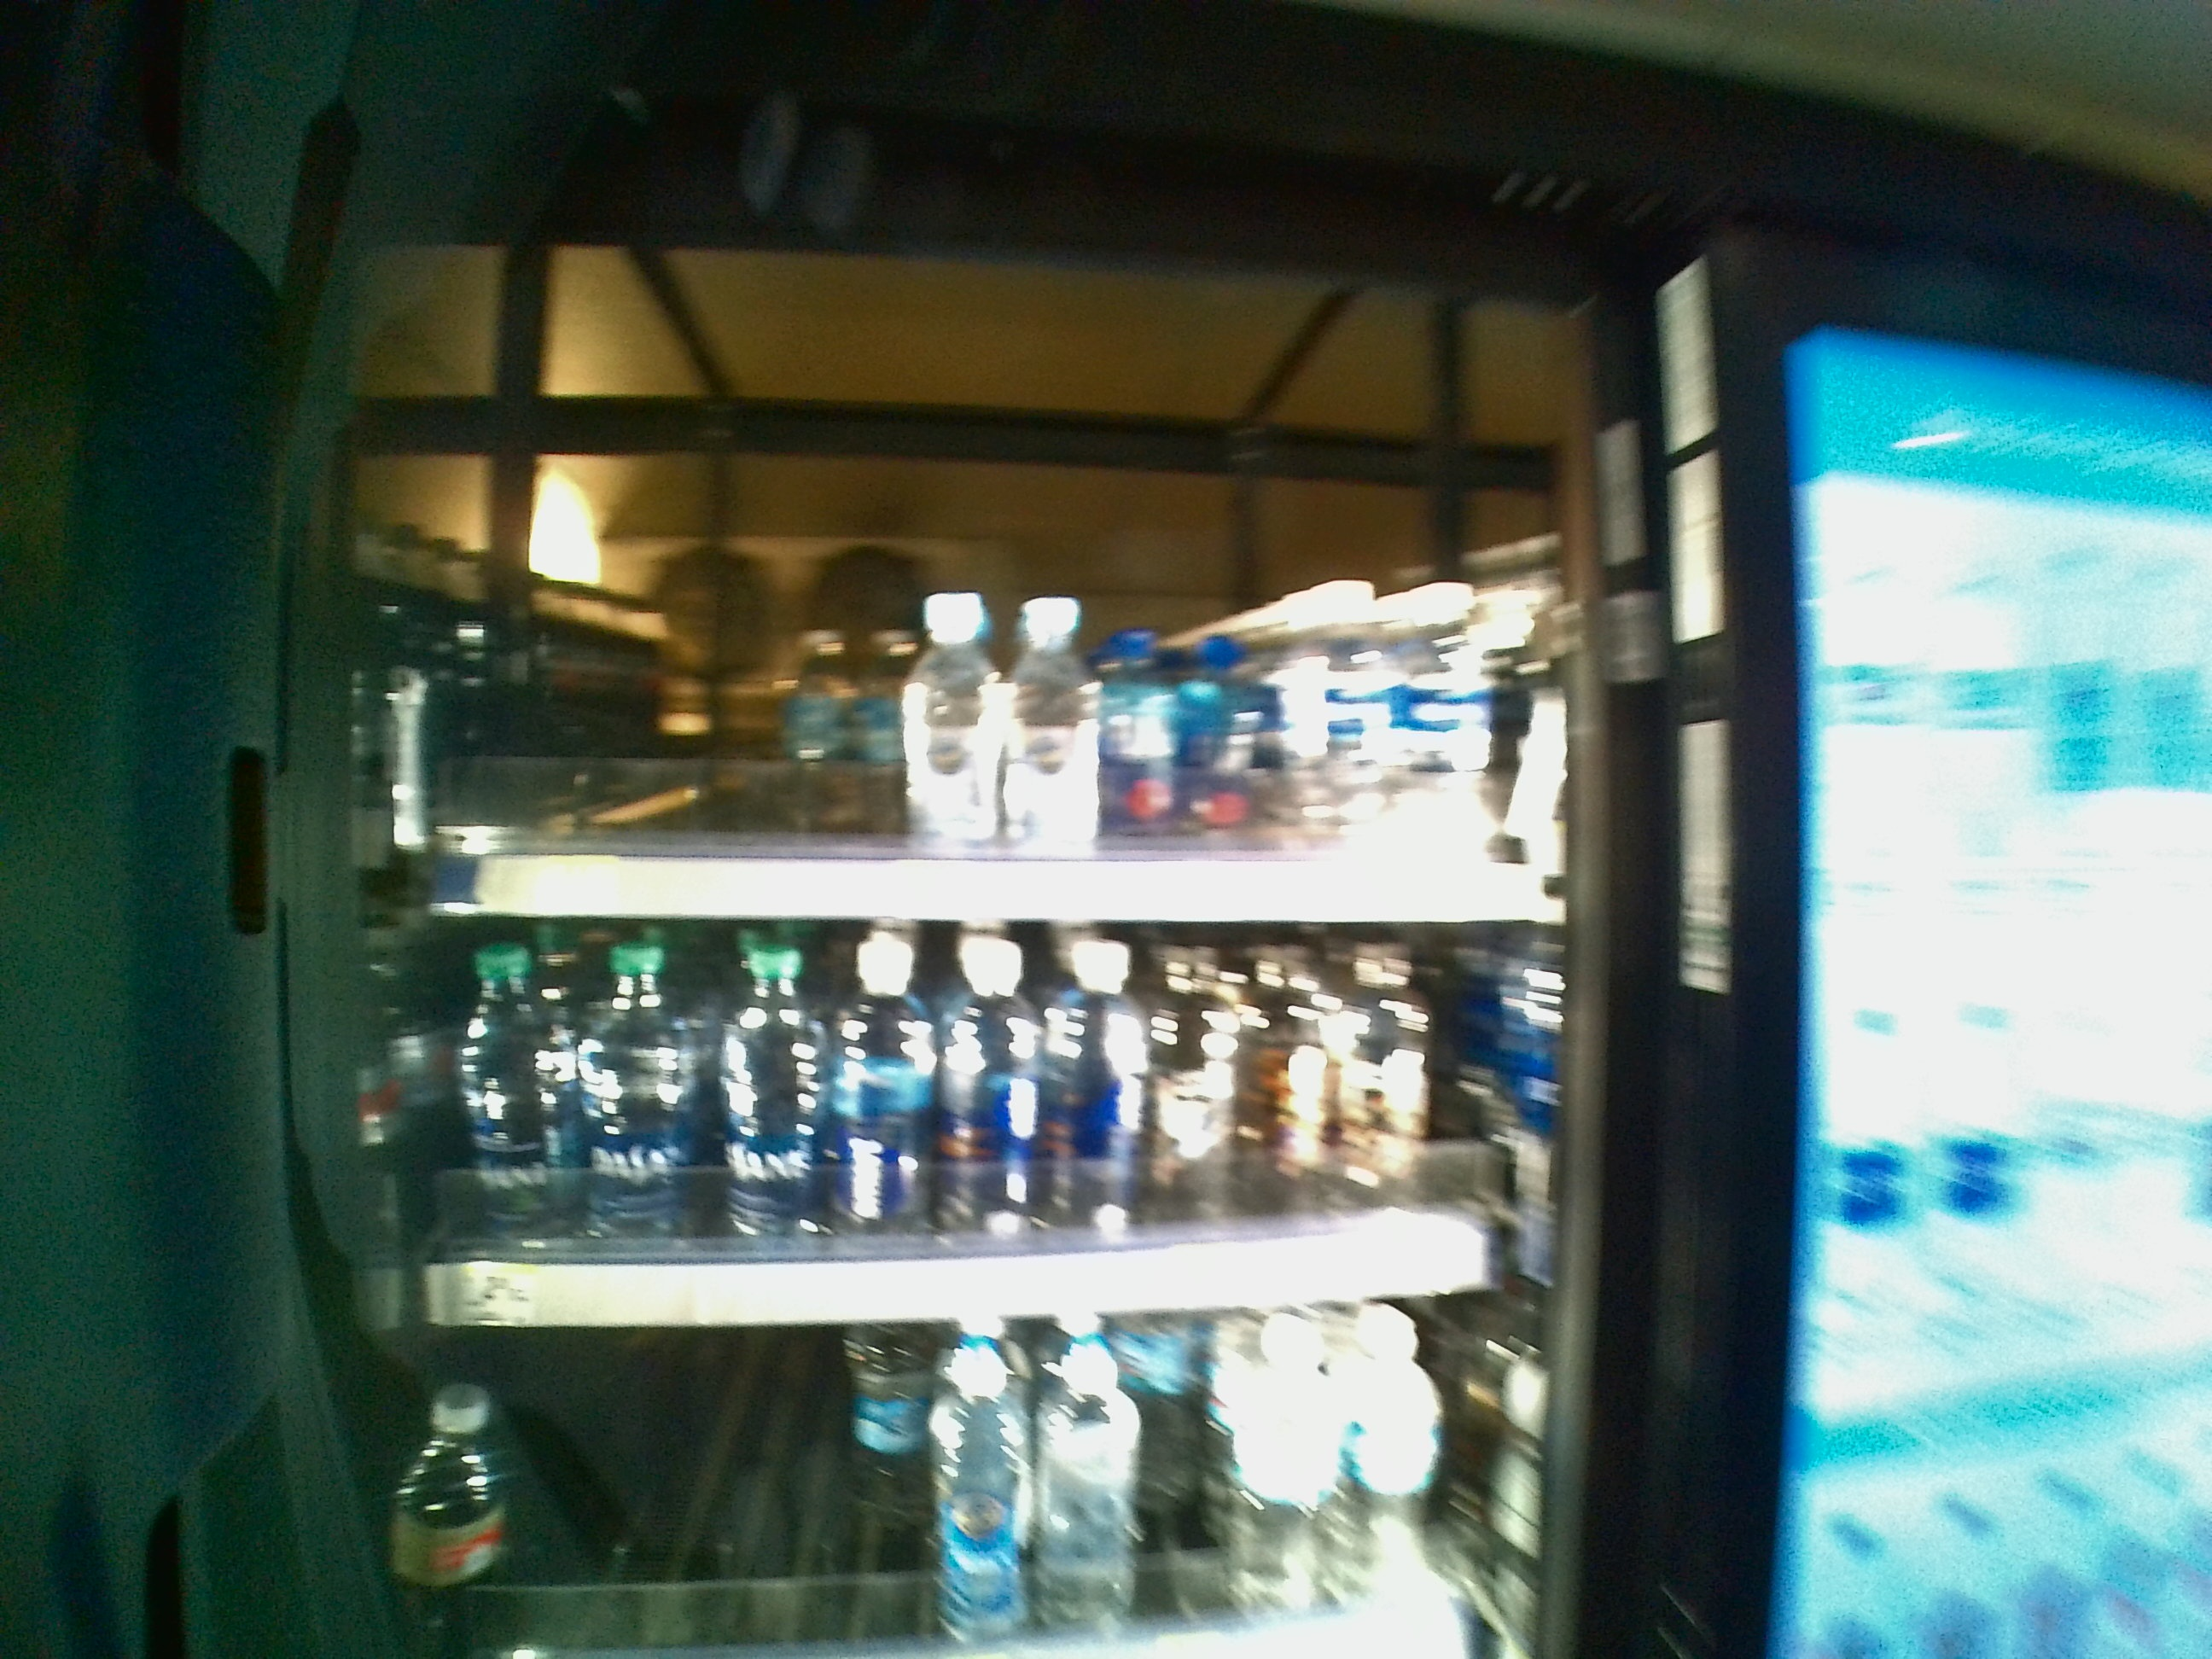shelf: (388, 410, 1569, 924), (387, 927, 1578, 1331)
